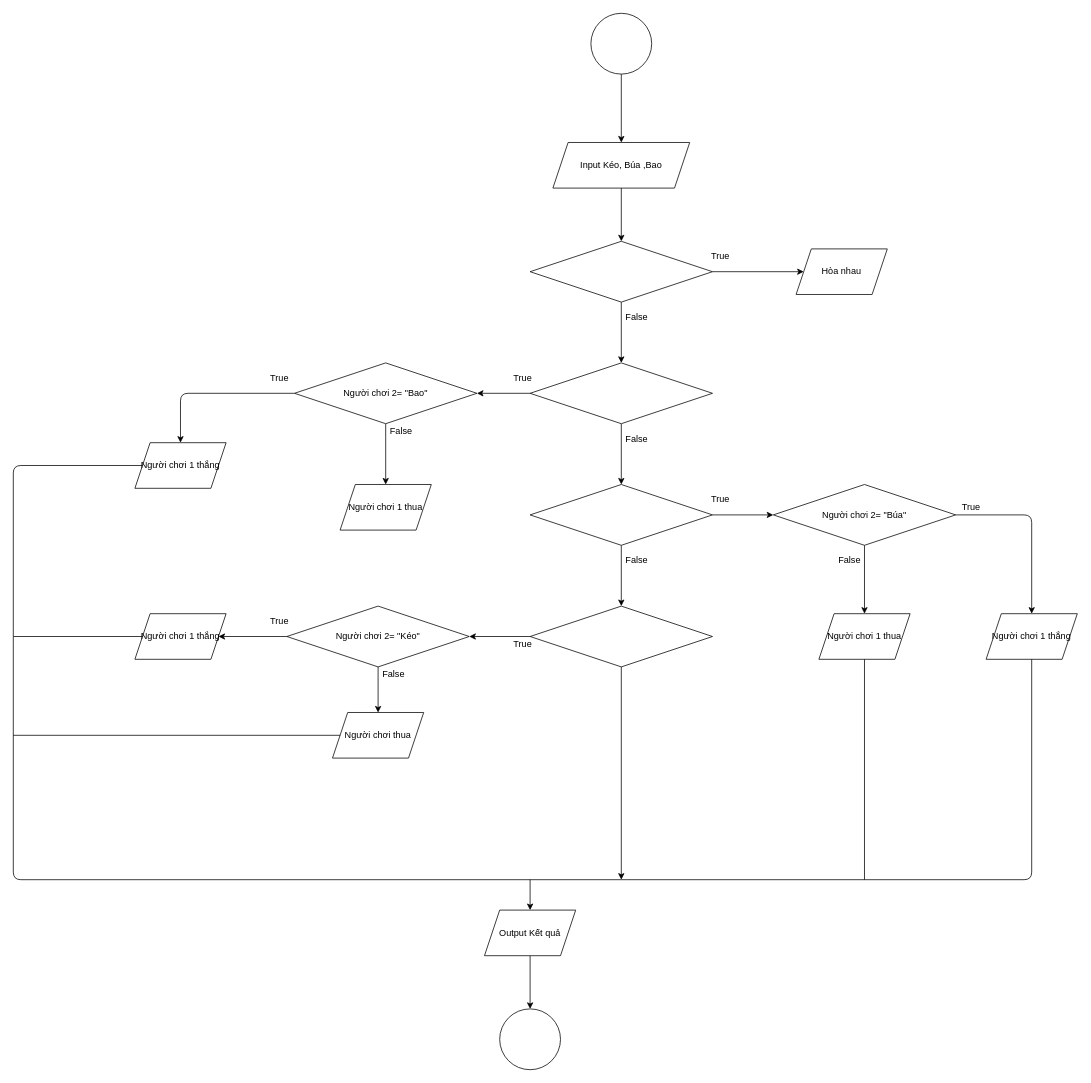
The diagram is 1091 pixels wide and 1083 high, and some of its shapes have lost their labels. The shapes that lost their labels are listed below. From the top down, each one's centre as x and y in pixels, then its label:
pixel 621 43: Start
pixel 620 271: Người chơi 1= Người chơi 2
pixel 620 393: Người chơi 1= "Kéo"
pixel 620 514: Người chơi 1= "Bao"
pixel 620 636: Người chơi 1= "Búa"
pixel 529 1039: End
